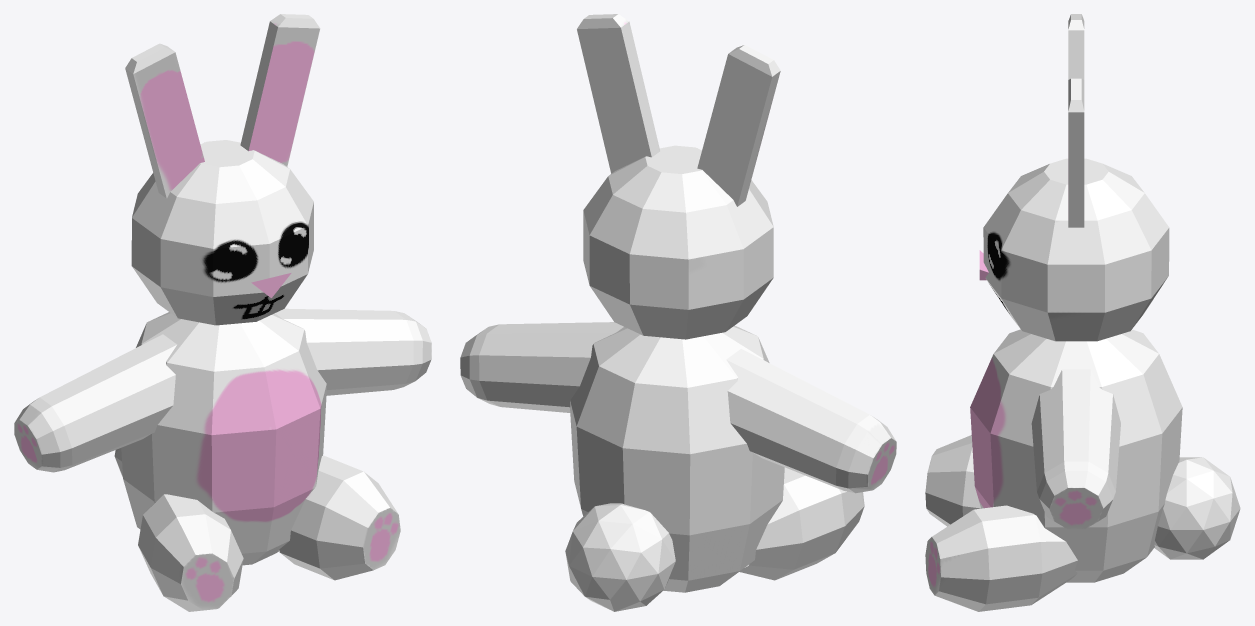
File: Coelho_Pelucia.fbx
The picture shows the model from 3 angles, left to right: view 1: azimuth 30°, elevation 25°; view 2: azimuth 150°, elevation 25°; view 3: azimuth 270°, elevation 25°; orthographic projection. The views are drawn at different scales.
Visible parts, largest first — view 1: Cylinder.003; view 2: Cylinder.003; view 3: Cylinder.003.
Boxes of the visible parts, bbox=[...] form: Cylinder.003: bbox=[14, 14, 431, 611]; Cylinder.003: bbox=[460, 14, 896, 611]; Cylinder.003: bbox=[925, 14, 1240, 611].
Bounding box in the file's own units: 377 × 474 × 259.
